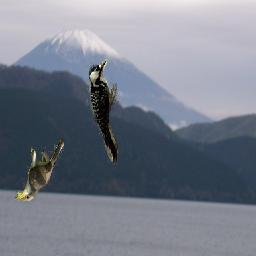Cuckoo: (16, 139, 65, 202)
Woodpecker: (85, 56, 124, 170)
